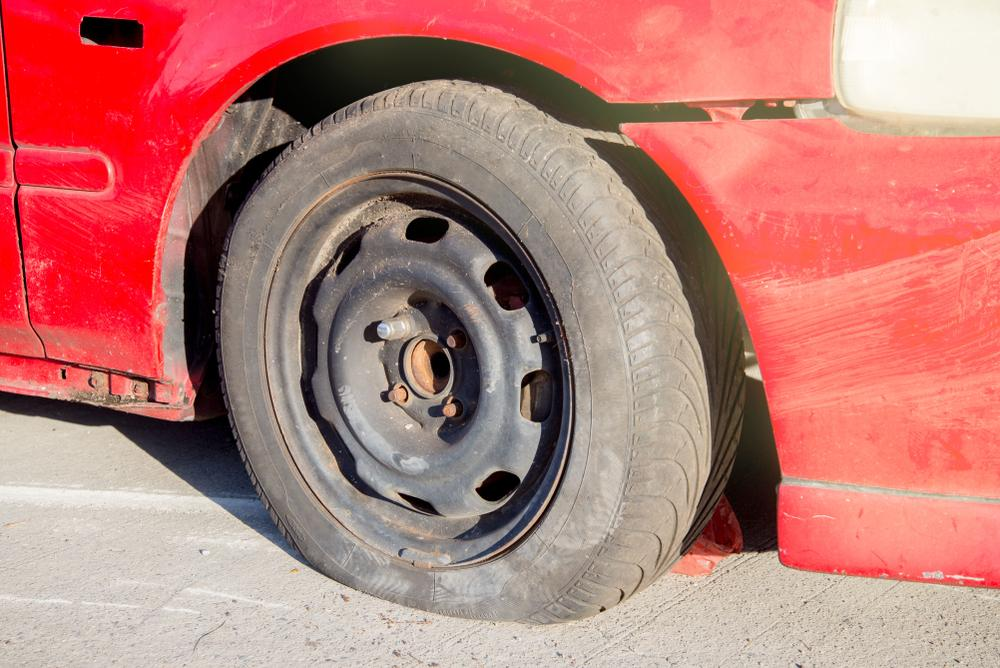tire flat: (217, 74, 749, 623)
